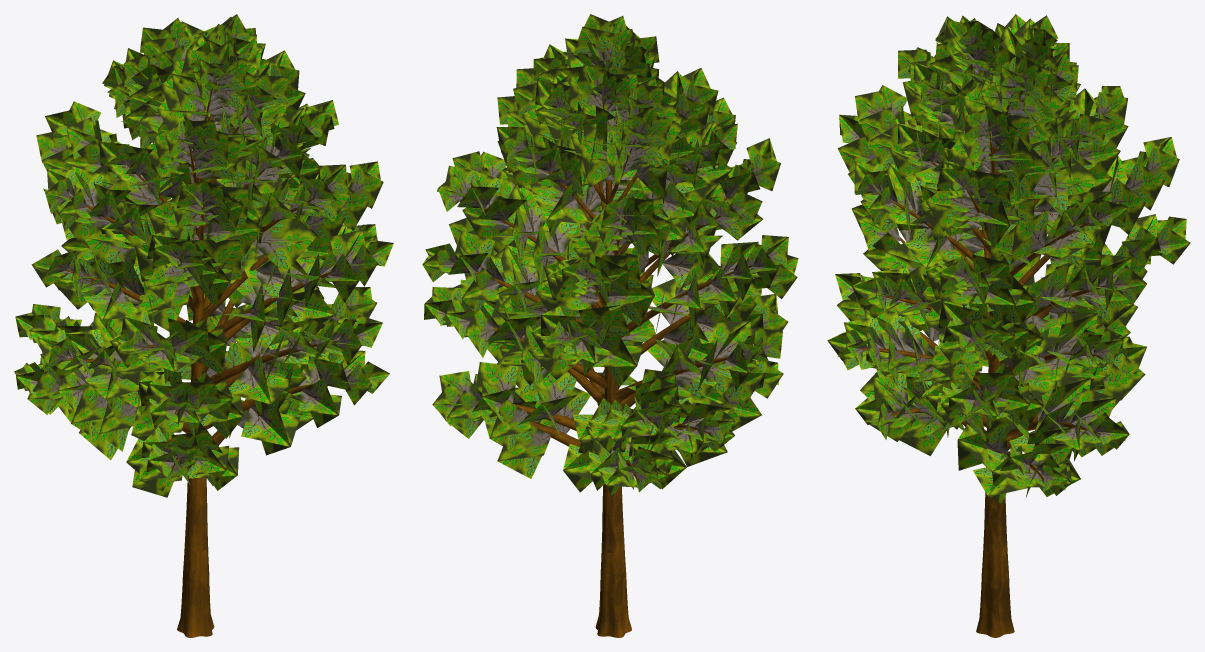
The model's file is titantree.fbx.
3 renders of one model, left to right at view 1: azimuth 30°, elevation 25°; view 2: azimuth 150°, elevation 25°; view 3: azimuth 270°, elevation 25°, orthographic. The views are drawn at different scales.
Parts seen in each view (by area): view 1: Tree_1, Tree_0; view 2: Tree_1, Tree_0; view 3: Tree_1, Tree_0.
Part boxes in pixels (left/top/right/bottom): Tree_1: left=14, top=14, right=393, bottom=497; Tree_0: left=65, top=79, right=338, bottom=637; Tree_1: left=422, top=14, right=798, bottom=497; Tree_0: left=454, top=95, right=752, bottom=637; Tree_1: left=827, top=14, right=1190, bottom=504; Tree_0: left=862, top=85, right=1120, bottom=637.
Size of the model in its own units: 272 by 469 by 248.
2 materials, 2 textured.
